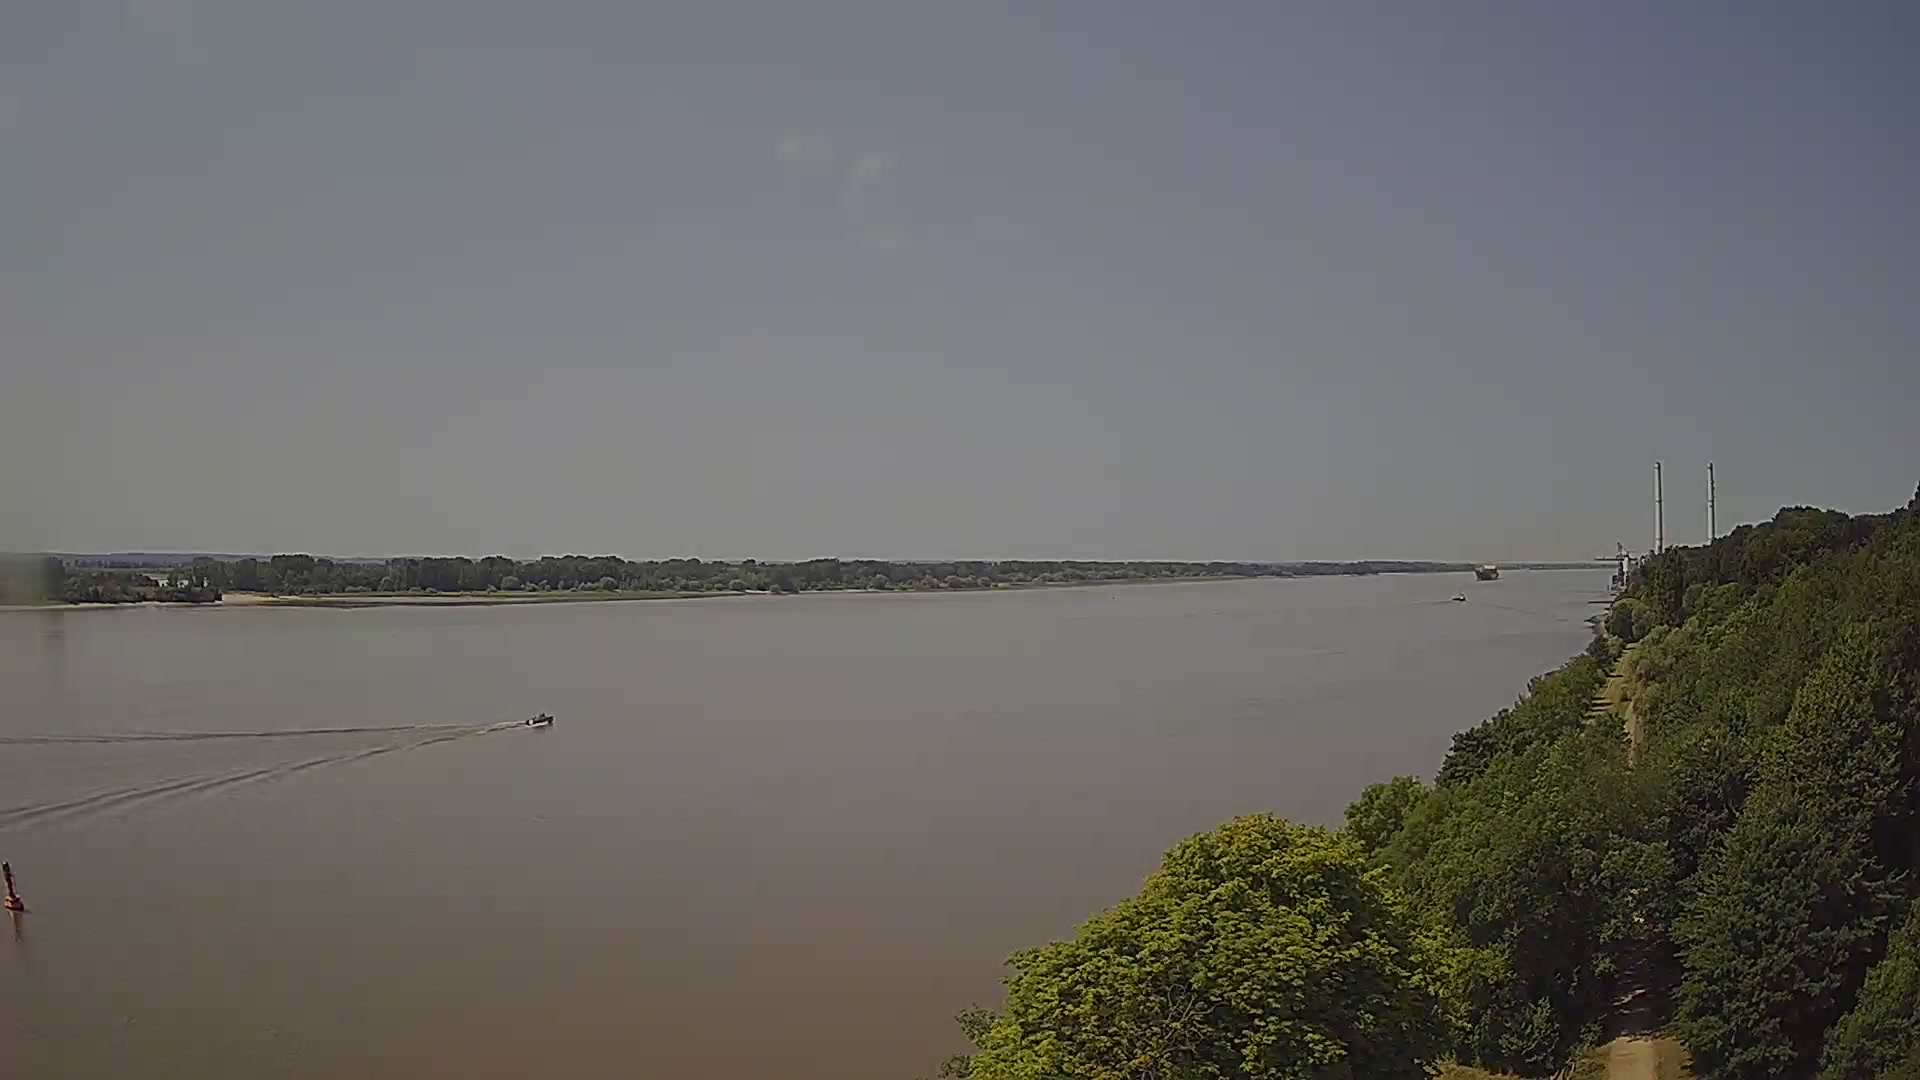sea: (525, 711, 555, 727), (1476, 563, 1499, 582), (1451, 591, 1466, 603)
